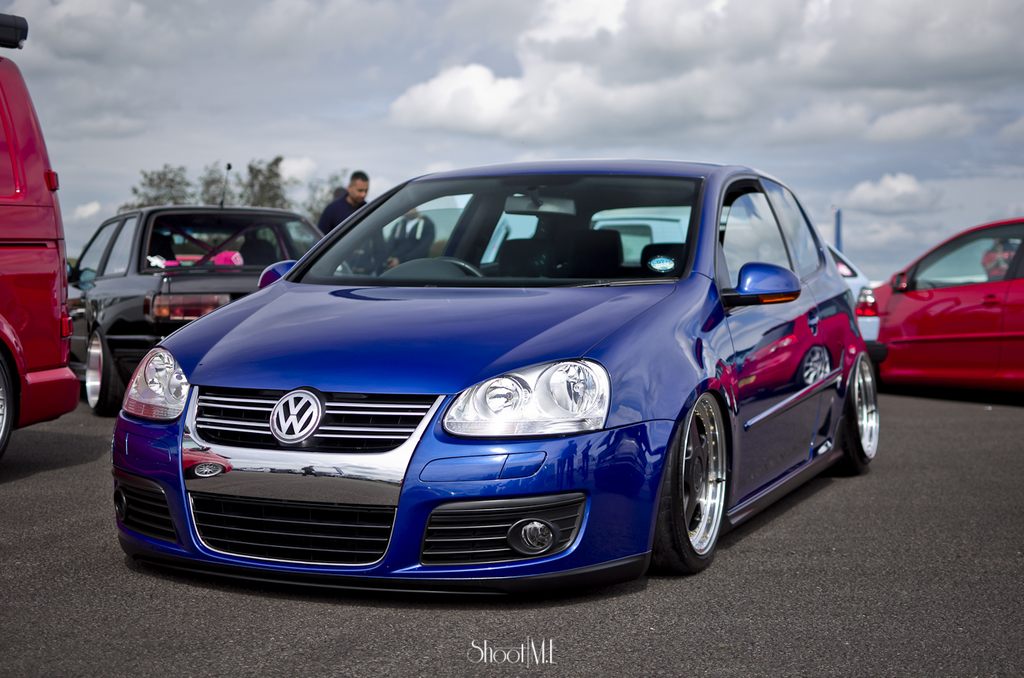Car: (0, 6, 1023, 590)
